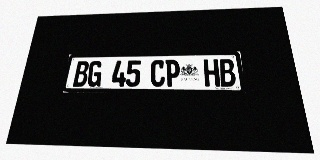4: (111, 60, 127, 87)
5: (126, 60, 141, 87)
B: (218, 59, 236, 87), (73, 61, 90, 87)
C: (150, 60, 165, 87)
G: (86, 61, 103, 87)
H: (203, 59, 220, 87)
P: (165, 60, 180, 87)
